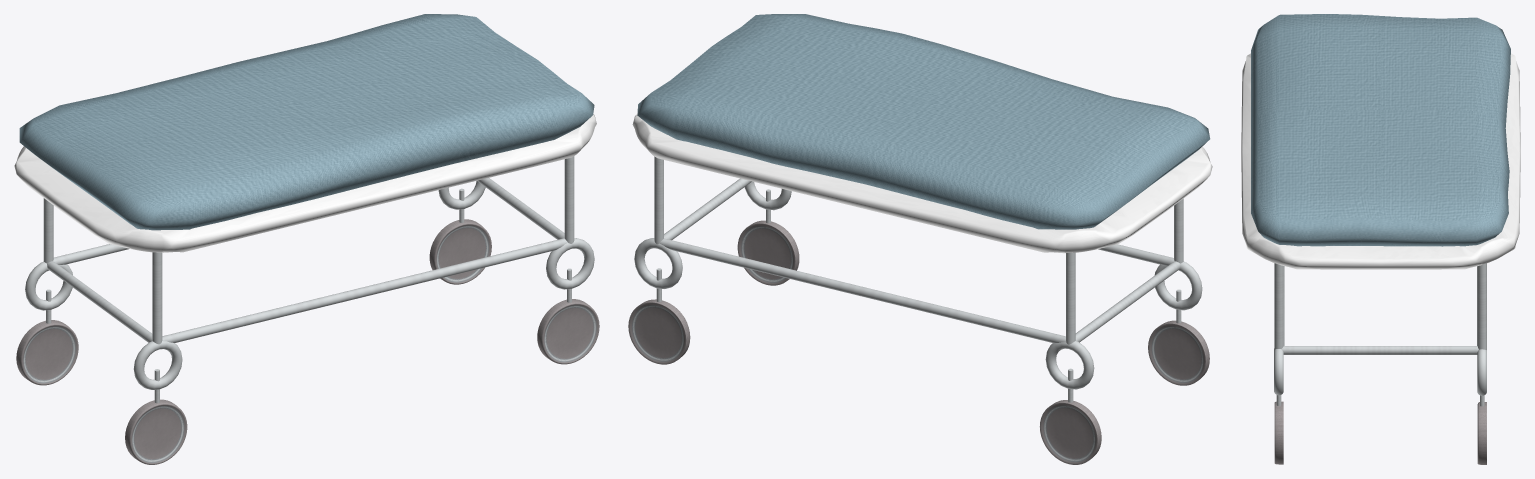
The model's file is stretcher.fbx.
The picture shows the model from 3 angles, left to right: view 1: azimuth 30°, elevation 25°; view 2: azimuth 150°, elevation 25°; view 3: azimuth 270°, elevation 25°; orthographic projection. The views are drawn at different scales.
Parts seen in each view (by area): view 1: polySurface4, polySurface5, polySurface23, polySurface20, polySurface10, polySurface15, polySurface29, polySurface22, polySurface13, polySurface8, polySurface18, polySurface21 (+5 smaller); view 2: polySurface4, polySurface5, polySurface24, polySurface29, polySurface15, polySurface20, polySurface10, polySurface22, polySurface18, polySurface27, polySurface13, polySurface21 (+5 smaller); view 3: polySurface4, polySurface5, polySurface21, polySurface25, polySurface6, polySurface10, polySurface29, polySurface27, polySurface8.
Part boxes in pixels (bbox=[...]): polySurface4: bbox=[19, 14, 594, 230]; polySurface5: bbox=[14, 114, 596, 252]; polySurface23: bbox=[162, 238, 567, 342]; polySurface20: bbox=[16, 320, 78, 385]; polySurface10: bbox=[537, 299, 599, 364]; polySurface15: bbox=[125, 399, 187, 464]; polySurface29: bbox=[429, 219, 491, 284]; polySurface22: bbox=[47, 261, 152, 342]; polySurface13: bbox=[133, 341, 182, 389]; polySurface8: bbox=[546, 238, 594, 289]; polySurface18: bbox=[25, 261, 72, 310]; polySurface21: bbox=[477, 178, 564, 239]; polySurface4: bbox=[637, 14, 1210, 229]; polySurface5: bbox=[632, 113, 1212, 253]; polySurface24: bbox=[659, 238, 1066, 343]; polySurface29: bbox=[628, 299, 690, 364]; polySurface15: bbox=[1148, 320, 1209, 385]; polySurface20: bbox=[1039, 400, 1101, 464]; polySurface10: bbox=[737, 220, 799, 285]; polySurface22: bbox=[1075, 261, 1180, 342]; polySurface18: bbox=[1045, 340, 1094, 389]; polySurface27: bbox=[634, 238, 682, 288]; polySurface13: bbox=[1154, 261, 1202, 310]; polySurface21: bbox=[664, 178, 751, 239]; polySurface4: bbox=[1251, 14, 1510, 246]; polySurface5: bbox=[1241, 53, 1520, 269]; polySurface21: bbox=[1281, 346, 1478, 354]; polySurface25: bbox=[1477, 263, 1486, 349]; polySurface6: bbox=[1274, 263, 1283, 349]; polySurface10: bbox=[1274, 401, 1283, 464]; polySurface29: bbox=[1477, 402, 1486, 464]; polySurface27: bbox=[1477, 349, 1486, 395]; polySurface8: bbox=[1274, 348, 1283, 395].
Size of the model in its own units: 2.3 by 1.22 by 1.2.
5 materials, 5 textured.
